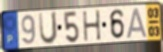5: (62, 10, 81, 45)
6: (108, 8, 125, 41)
9: (20, 14, 37, 47)
A: (126, 7, 149, 39)
H: (82, 9, 102, 43)
U: (37, 10, 58, 46)
